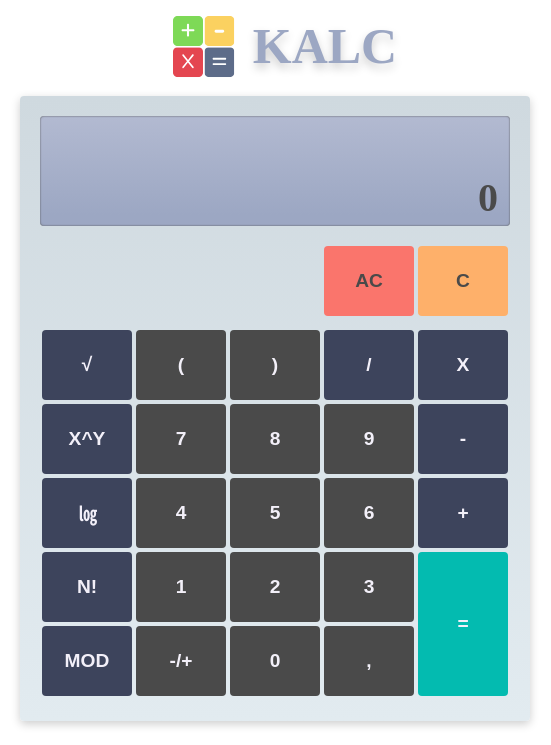
Test: The keypad should › input a invalid formula with an invalid current element and check if error is displayed
Click the button "2" at coordinates (275, 587), box 230,552 -> 320,622
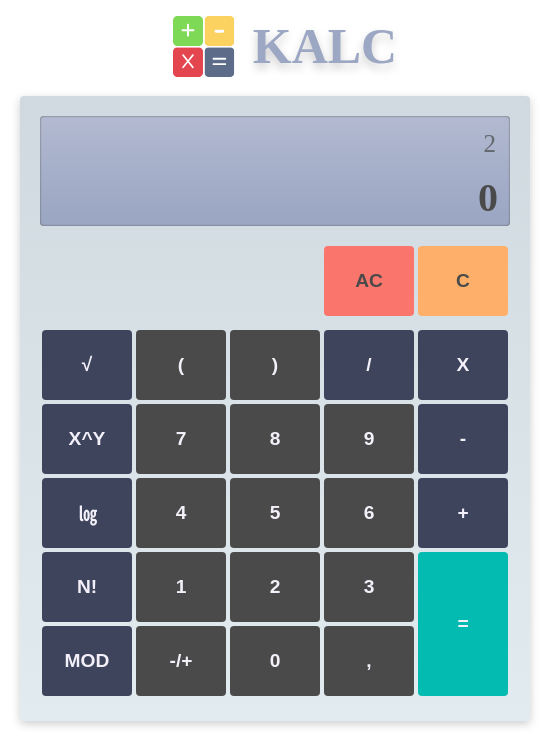
Click the button "+" at coordinates (463, 513), box 418,478 -> 508,548
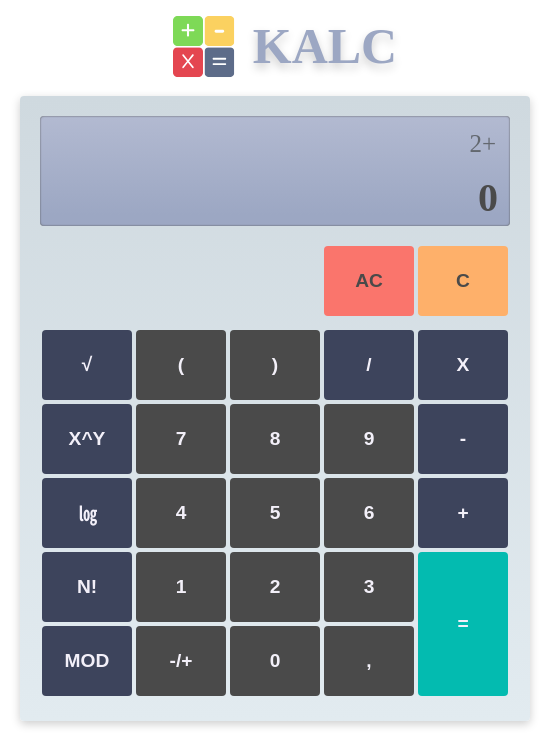
Click the button "-/+" at coordinates (181, 661), box 136,626 -> 226,696
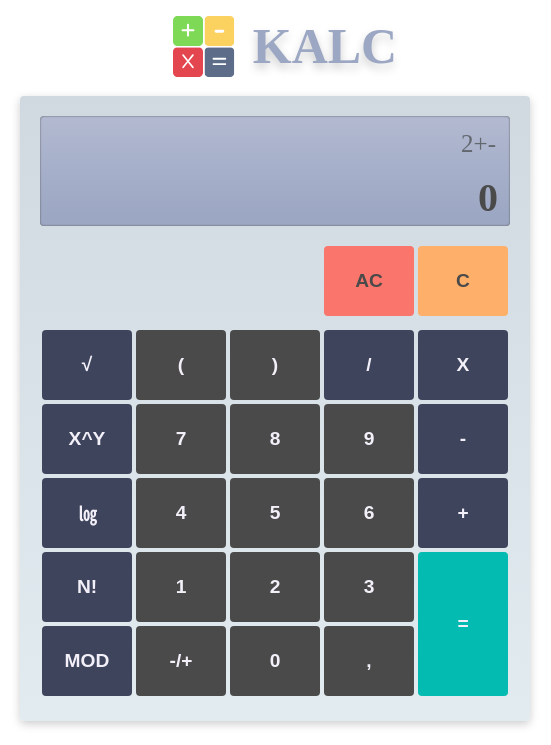
Click the button "=" at coordinates (463, 624), box 418,552 -> 508,696
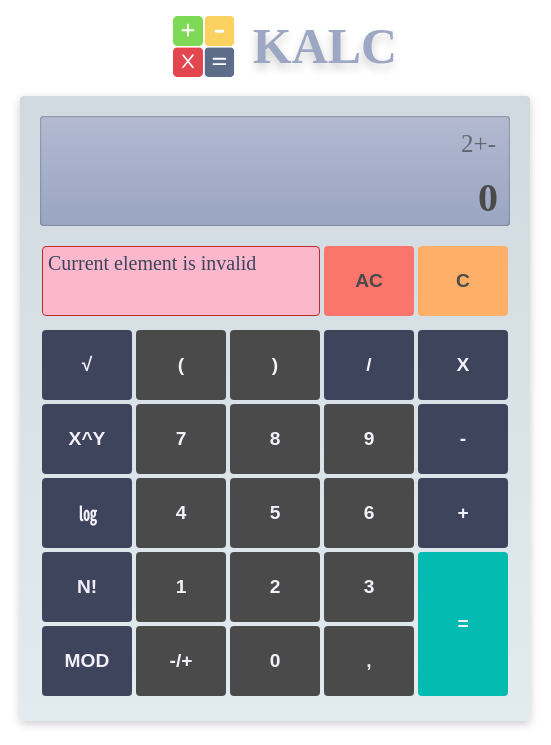
expect the message "Current element is invalid" is shown: met, box 42,246 -> 320,316
